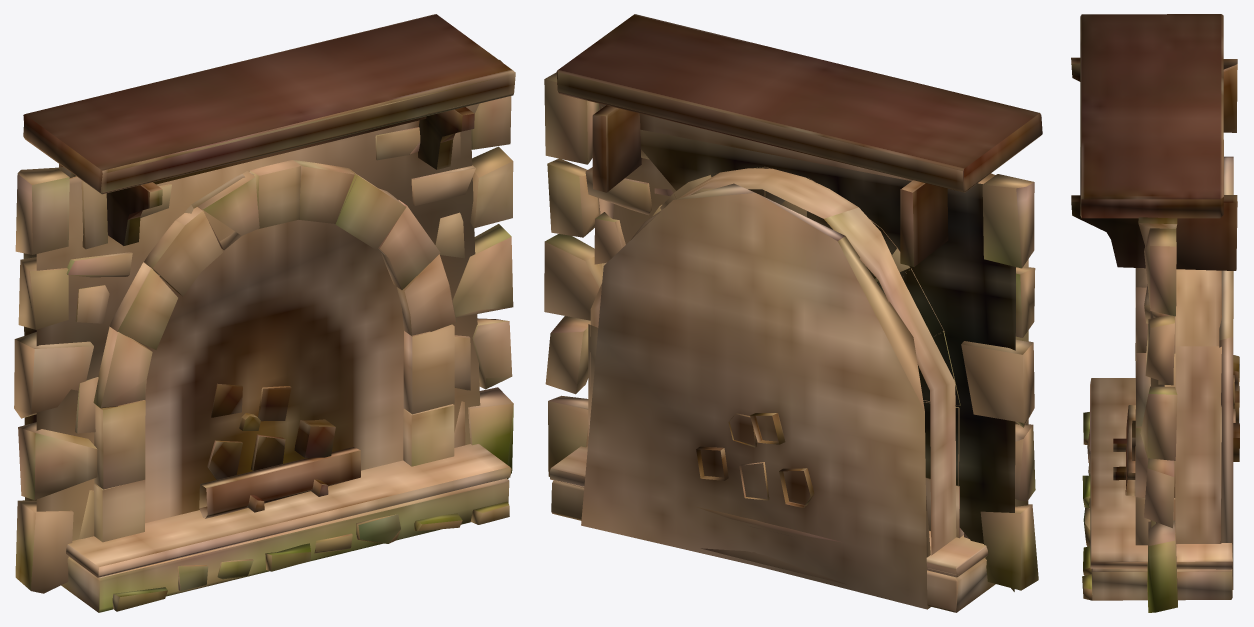
Rendered from fireplace.lod2.glb.
The picture shows the model from 3 angles, left to right: view 1: azimuth 30°, elevation 25°; view 2: azimuth 150°, elevation 25°; view 3: azimuth 270°, elevation 25°; orthographic projection. The views are drawn at different scales.
Bounding box in the file's own units: 1.8 × 1.59 × 0.598.
1 material, 1 textured.
